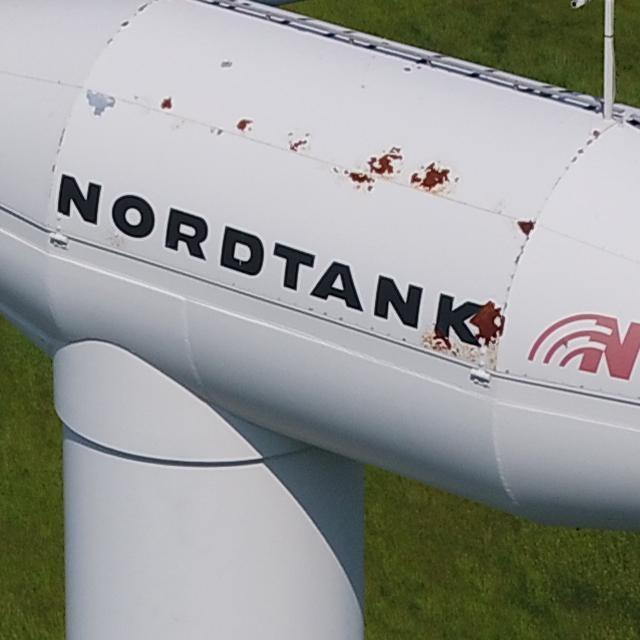damage: (469, 299, 506, 348), (369, 143, 408, 179), (409, 161, 451, 192), (86, 89, 118, 115), (421, 330, 455, 353), (347, 169, 377, 192), (234, 117, 254, 134), (517, 220, 536, 237), (289, 139, 309, 153), (157, 98, 174, 109), (219, 59, 234, 70)
